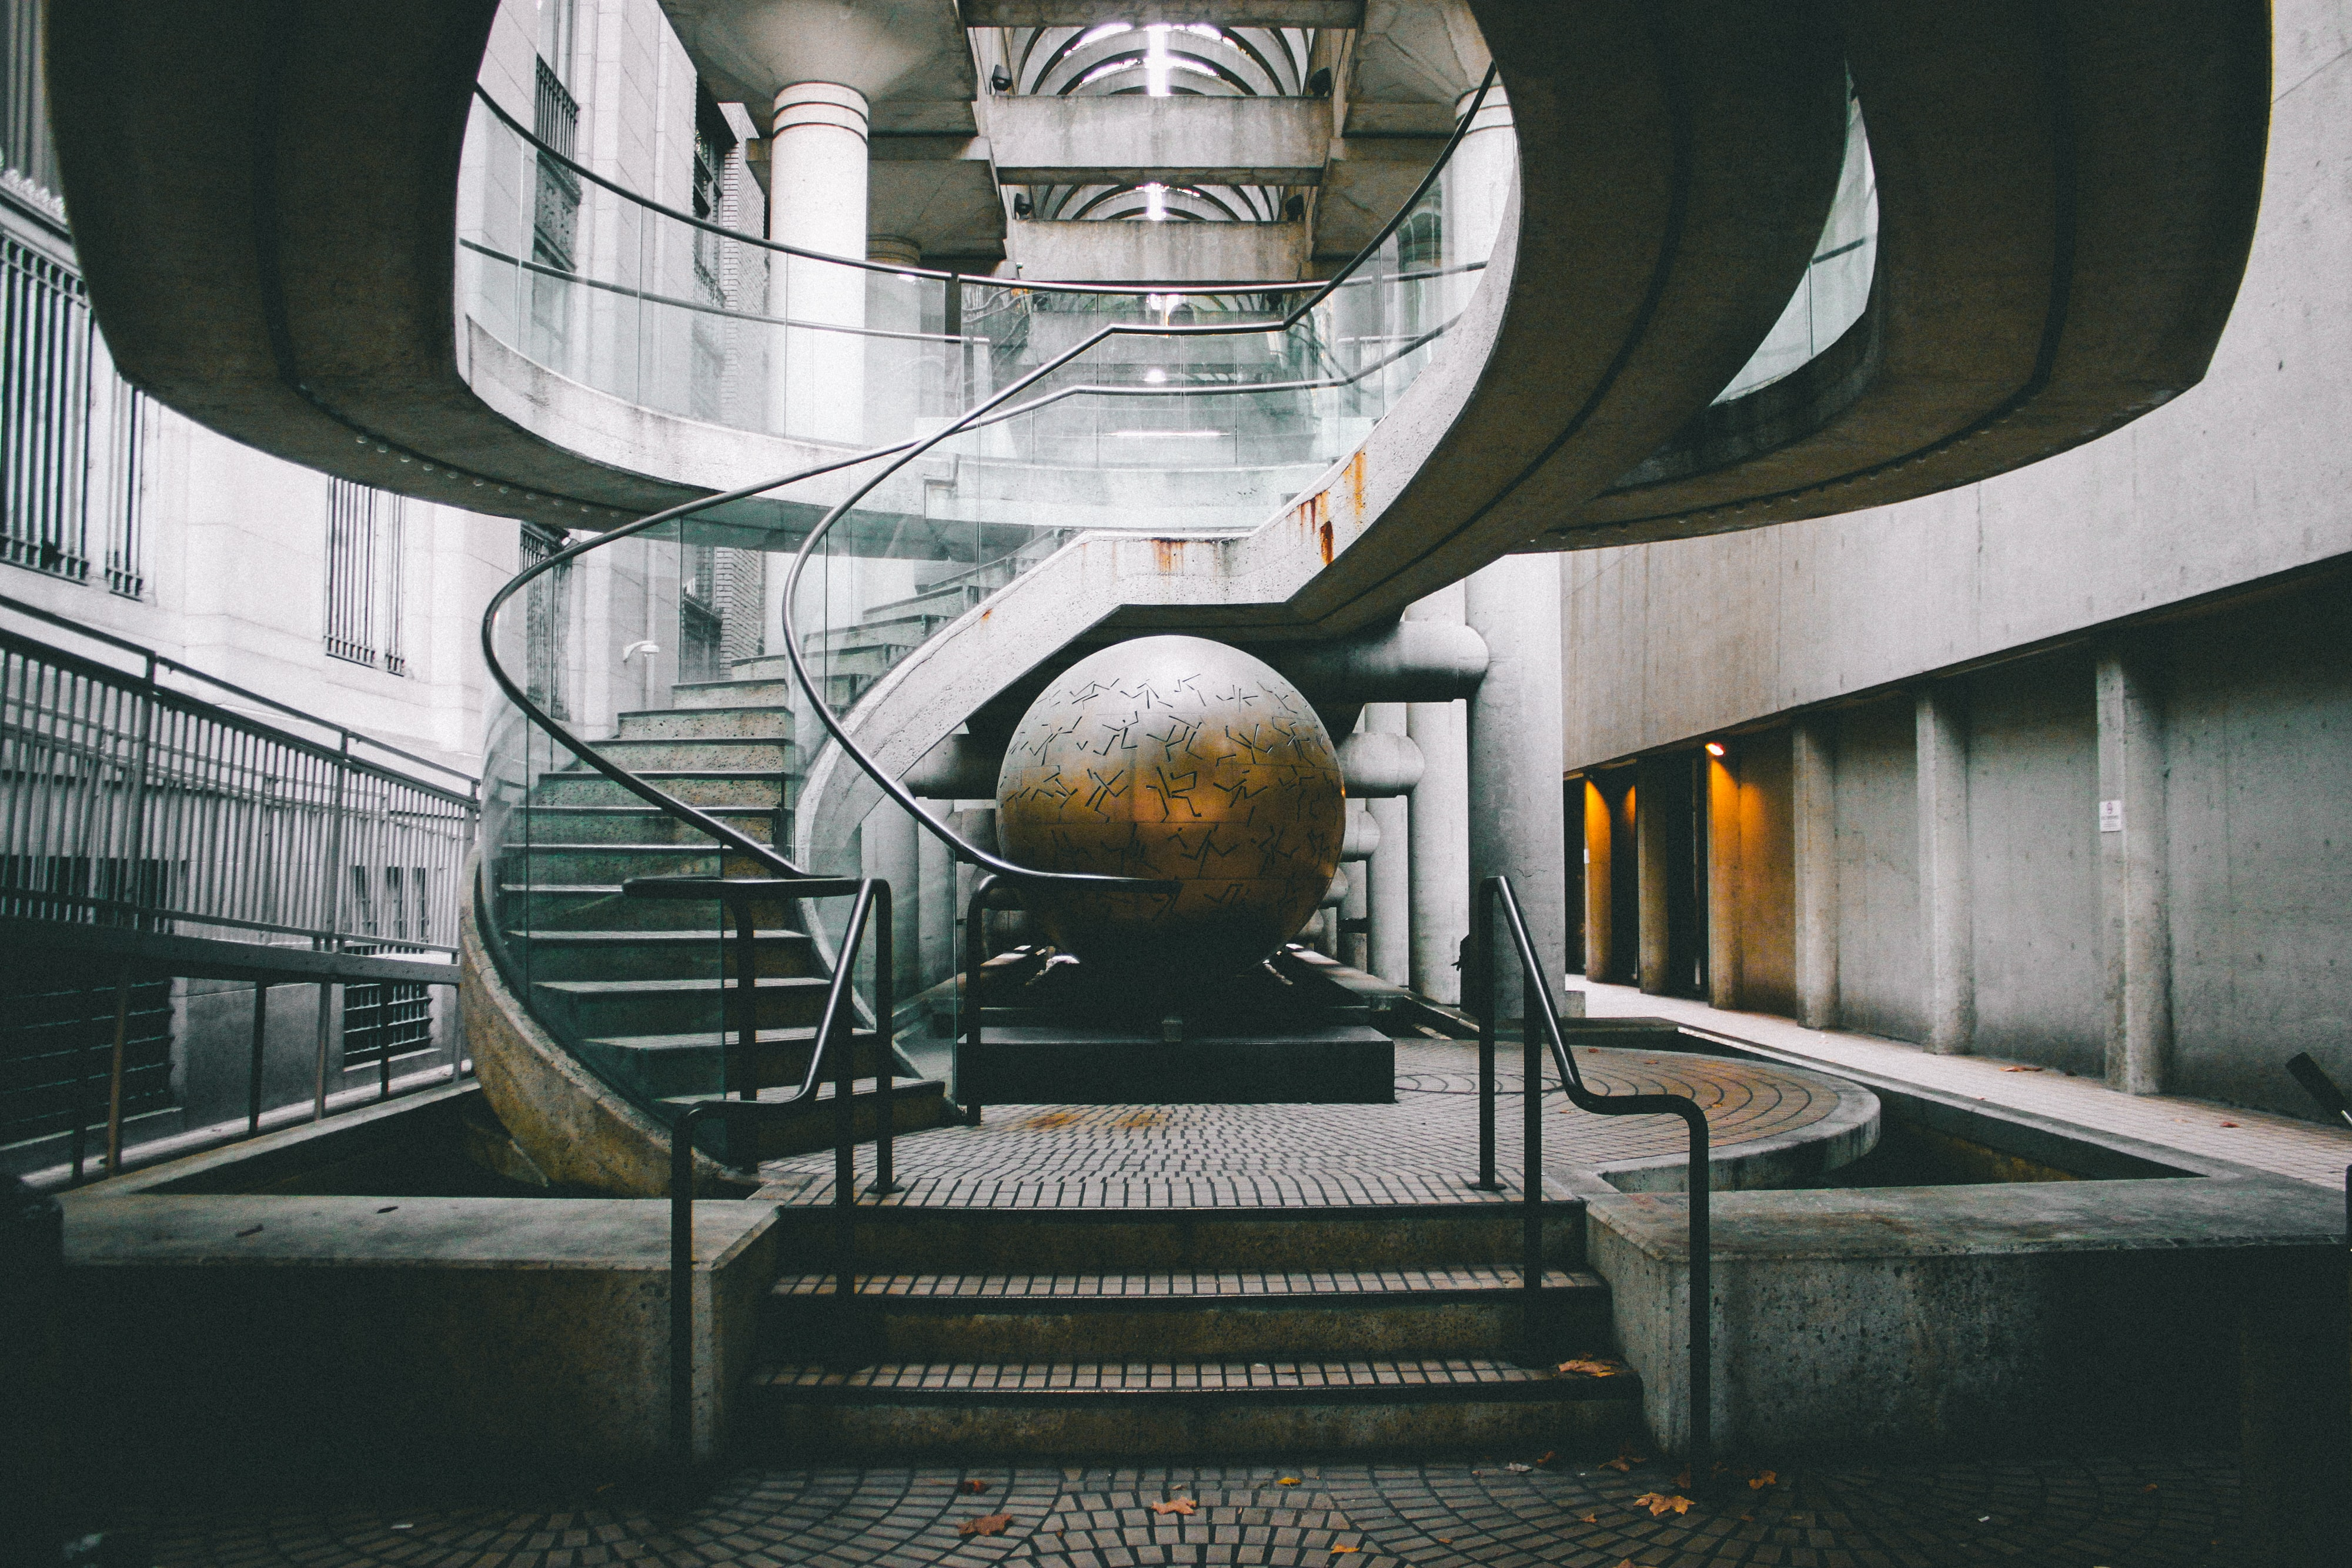upstairs: (857, 1185, 1508, 1491)
